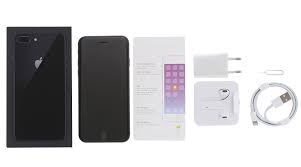iphone: (12, 31, 67, 142)
